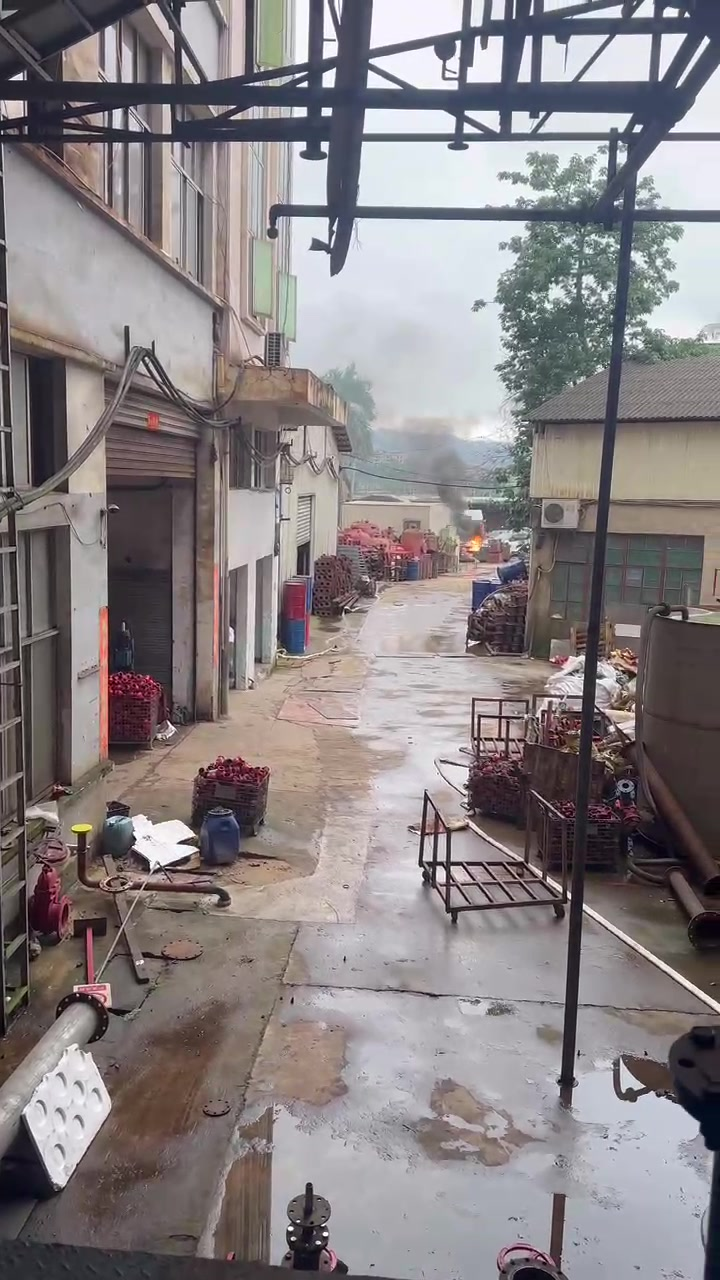fire: (467, 535, 481, 550)
